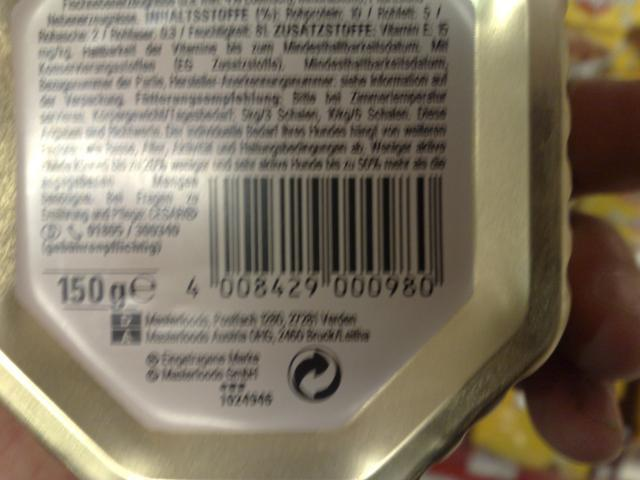Barcode: (176, 171, 454, 307)
